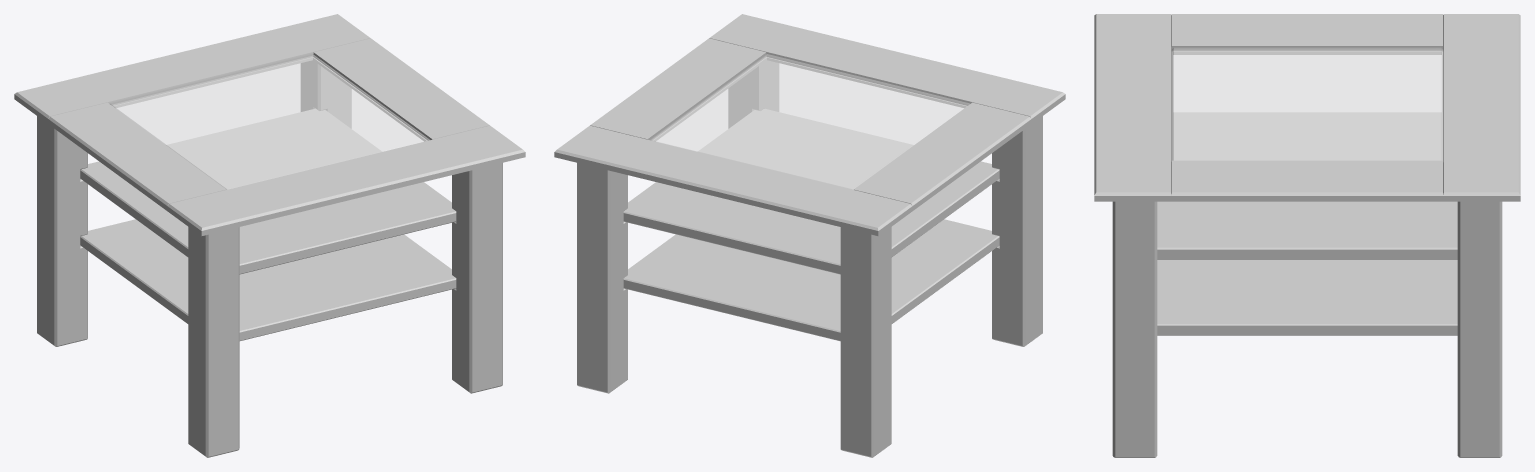
File: Wood_Table.dae
The picture shows the model from 3 angles, left to right: view 1: azimuth 30°, elevation 25°; view 2: azimuth 150°, elevation 25°; view 3: azimuth 270°, elevation 25°; orthographic projection. The views are drawn at different scales.
Parts seen in each view (by area): view 1: Wood_Table, Wood_Table_Glass; view 2: Wood_Table, Wood_Table_Glass; view 3: Wood_Table, Wood_Table_Glass.
Part boxes in pixels (left/top/right/bottom): Wood_Table: left=14, top=14, right=525, bottom=457; Wood_Table_Glass: left=110, top=54, right=429, bottom=189; Wood_Table: left=554, top=14, right=1065, bottom=457; Wood_Table_Glass: left=650, top=54, right=969, bottom=189; Wood_Table: left=1094, top=14, right=1520, bottom=457; Wood_Table_Glass: left=1171, top=47, right=1443, bottom=161.
Size of the model in its own units: 0.6601 by 0.6601 by 0.4664.
Materials: 2 (1 with a texture image).
